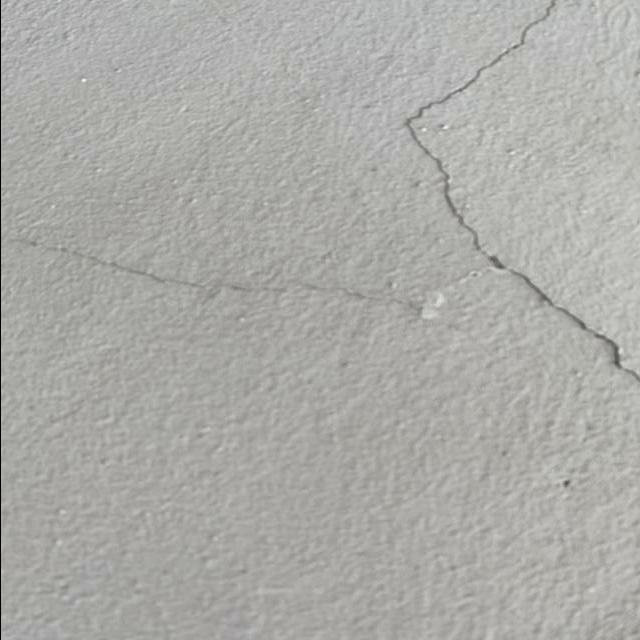SurfaceCrack: (387, 0, 639, 428)
